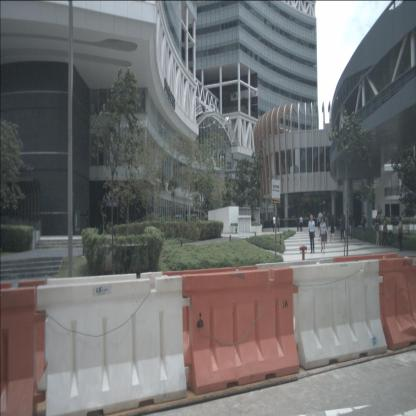human-pedestrian-adult: (318, 216, 327, 255), (396, 216, 404, 252), (360, 211, 369, 243), (373, 212, 381, 247), (308, 214, 315, 254), (380, 217, 389, 248), (347, 210, 355, 240), (316, 208, 324, 232), (340, 213, 346, 244), (323, 212, 329, 243), (329, 214, 335, 244), (298, 214, 304, 232), (295, 215, 300, 232), (276, 214, 280, 233), (272, 214, 276, 233), (337, 214, 340, 230)
movable_object-barrier: (36, 275, 190, 416), (182, 267, 300, 395), (288, 259, 388, 371), (0, 286, 47, 415), (376, 256, 416, 352)
